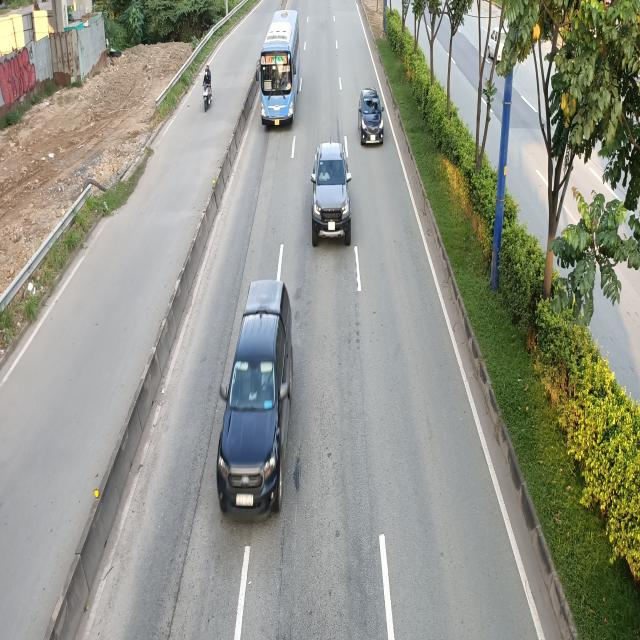car: (220, 284, 296, 520), (312, 140, 354, 241), (357, 87, 385, 146)
coach: (256, 10, 303, 127)
